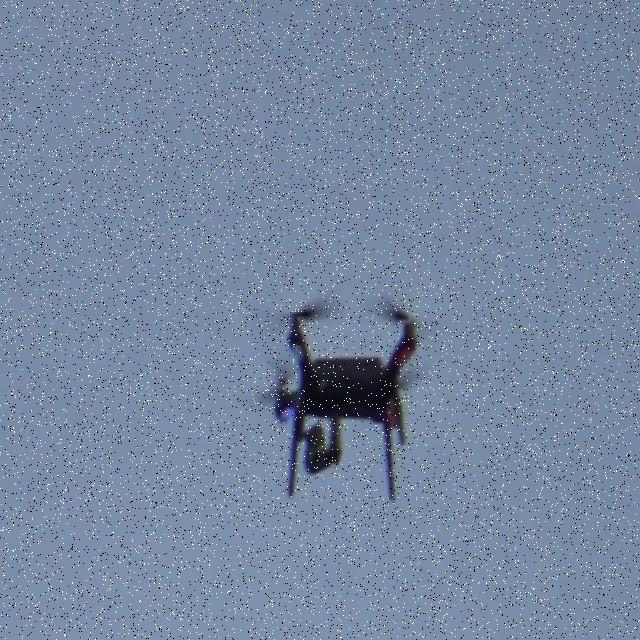UAV: (254, 295, 430, 502)
